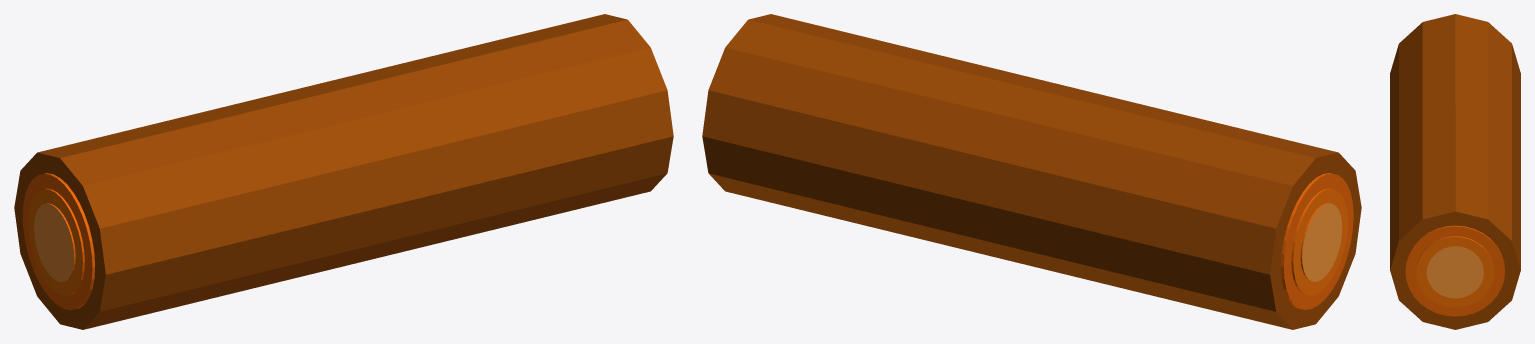
The model's file is Trunk.fbx.
3 views of the same model, side by side, from view 1: azimuth 30°, elevation 25°; view 2: azimuth 150°, elevation 25°; view 3: azimuth 270°, elevation 25° (orthographic). The views are drawn at different scales.
Parts seen in each view (by area): view 1: Log, Circle, Circle.002, Circle.001; view 2: Log, Circle, Circle.002, Circle.001; view 3: Log, Circle, Circle.002, Circle.001.
Part boxes in pixels (left/top/right/bottom): Log: left=14, top=14, right=673, bottom=329; Circle: left=22, top=173, right=94, bottom=310; Circle.002: left=34, top=203, right=75, bottom=281; Circle.001: left=28, top=188, right=84, bottom=295; Log: left=702, top=14, right=1361, bottom=329; Circle: left=1281, top=173, right=1353, bottom=309; Circle.002: left=1300, top=203, right=1342, bottom=281; Circle.001: left=1291, top=188, right=1347, bottom=295; Log: left=1390, top=14, right=1520, bottom=329; Circle: left=1405, top=225, right=1504, bottom=316; Circle.002: left=1426, top=246, right=1483, bottom=298; Circle.001: left=1416, top=236, right=1494, bottom=307.
Size of the model in its own units: 236 by 64.8 by 64.8.
